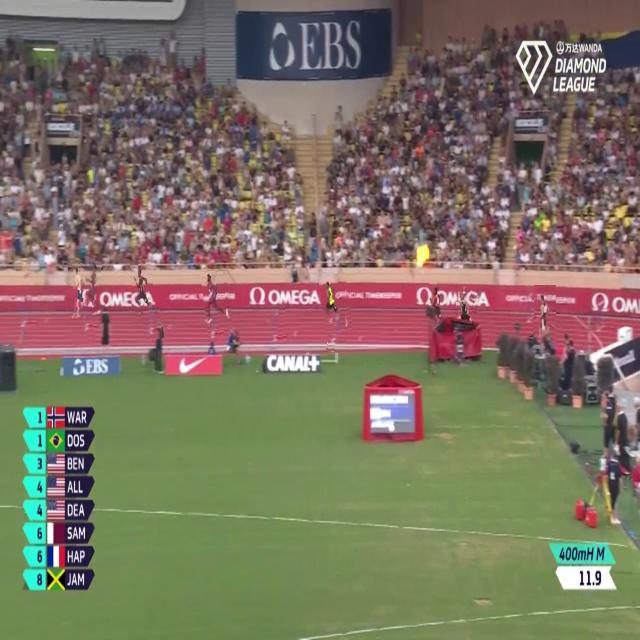athlete: (320, 273, 351, 334), (202, 268, 232, 330), (131, 260, 156, 320), (534, 286, 556, 348), (68, 262, 86, 319), (85, 260, 101, 323), (455, 285, 474, 332), (429, 280, 444, 331)
hurdle: (140, 296, 163, 340), (328, 305, 345, 353), (78, 294, 94, 344), (206, 302, 224, 339), (272, 305, 284, 344)
